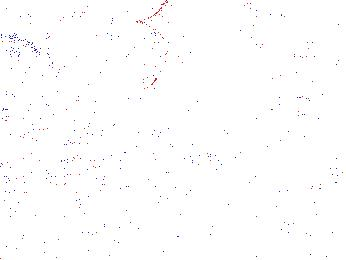moon jellyfish: (278, 82, 346, 196), (40, 1, 111, 107), (1, 36, 59, 128), (249, 23, 316, 100), (111, 22, 168, 92)
